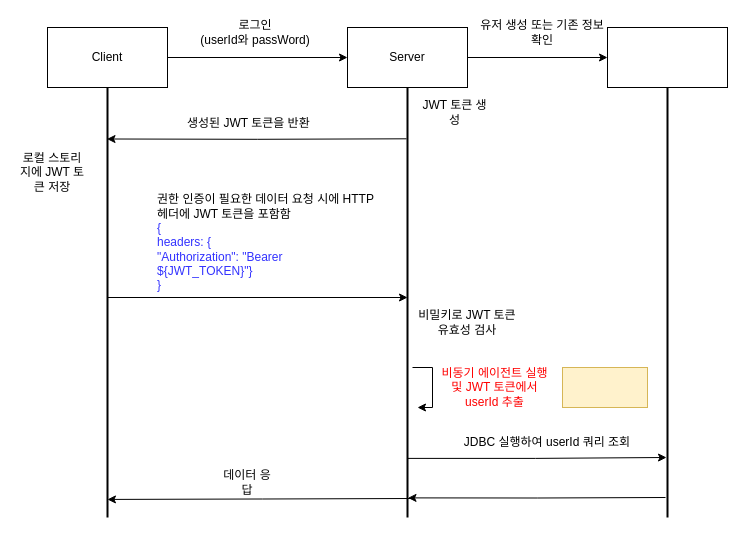
Some shapes in this 745 by 535 pixel diagram are drawn without their labels. The centre of each missing label's shape, as x and y in pixels:
MySQL DB: pixel 667 57
프롬프트 인젝션 방지 목적: pixel 605 387
